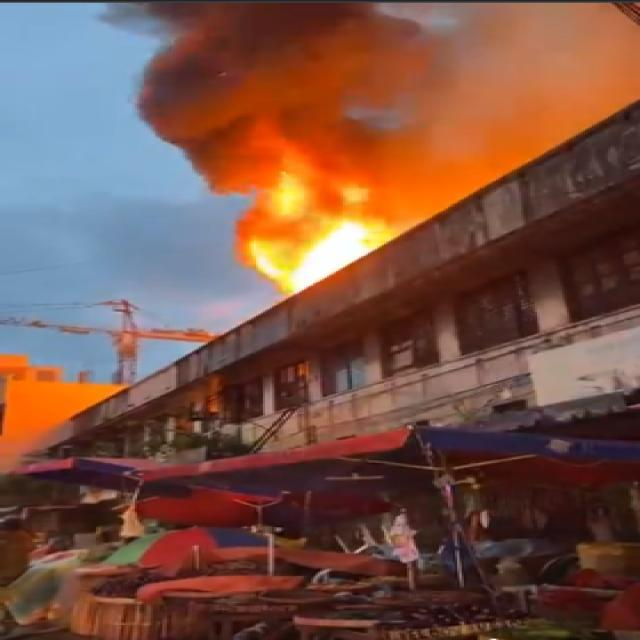Smoke: (238, 184, 378, 268)
